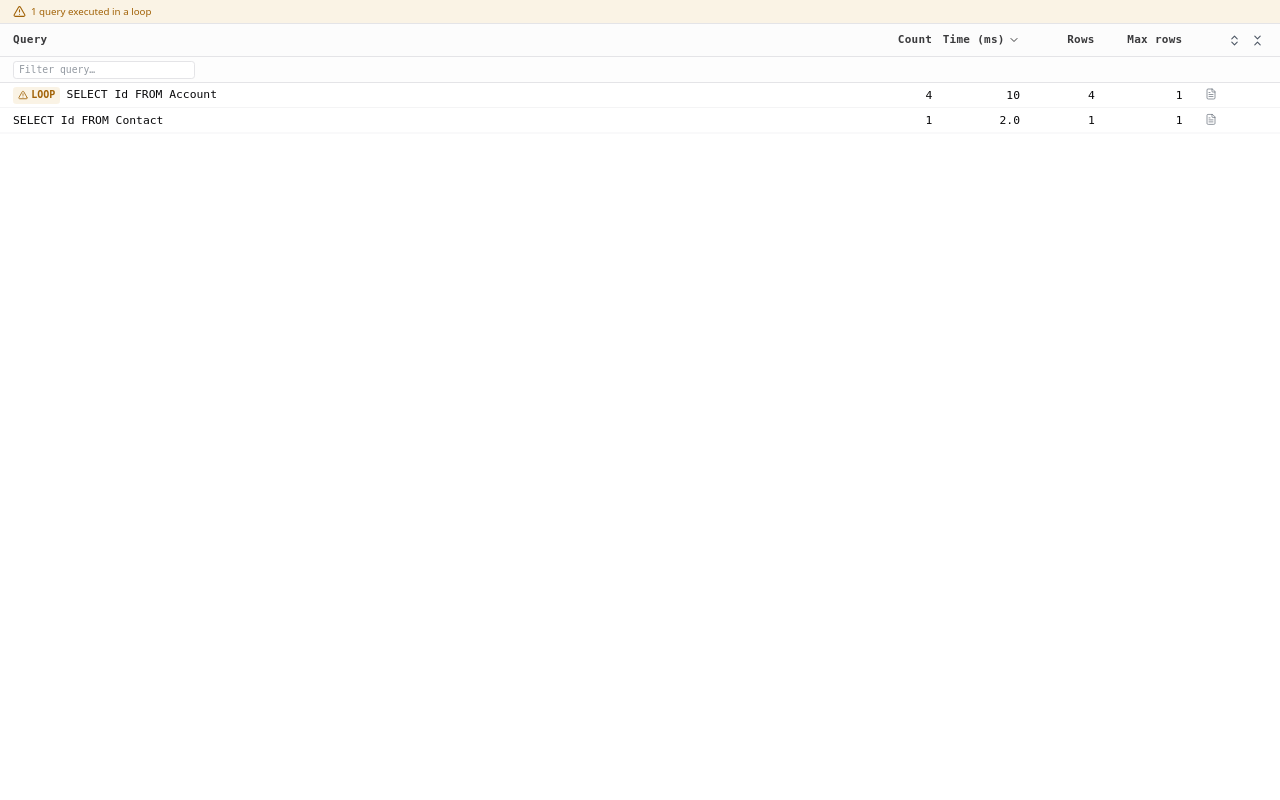
Test: SOQL Analysis — jump to a specific occurrence of a looped query › clicking outside the menu closes it without jumping
Click the button titled "4 occurrences — click to pick one" at [1211, 94], box [1203, 86, 1218, 102]
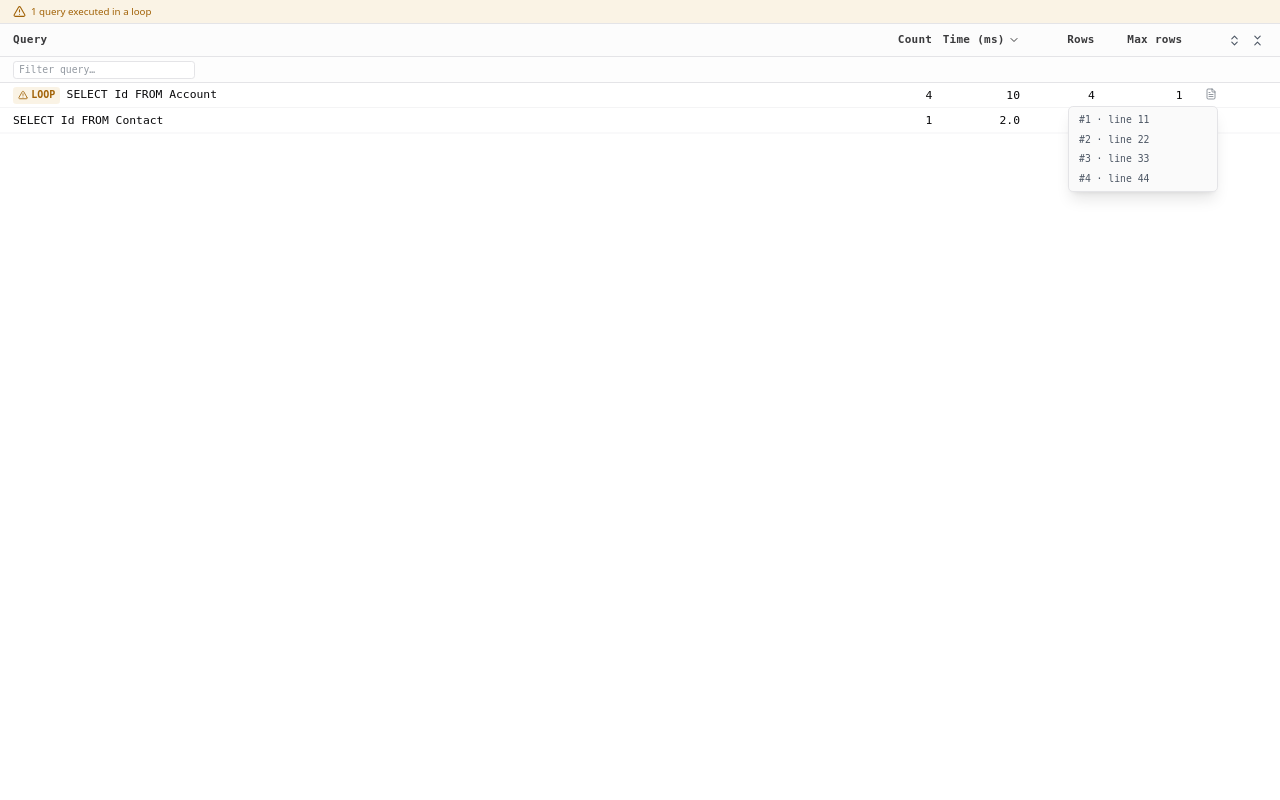
Expected: the button "#1 · line 11" is shown, [1069, 110, 1217, 129]
Click the element that starts with "quer" at [640, 400], box [0, 0, 1279, 799]
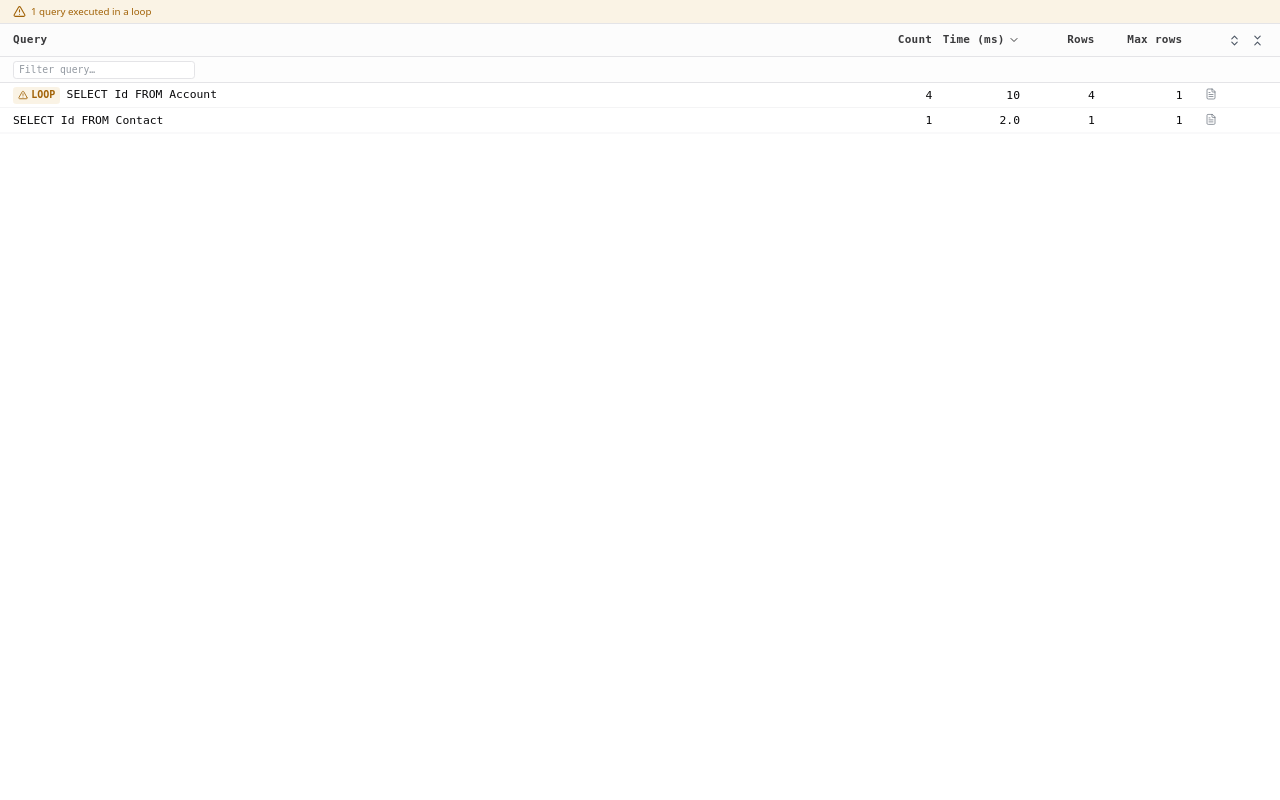
Expected: the button "#1 · line 11" is gone
